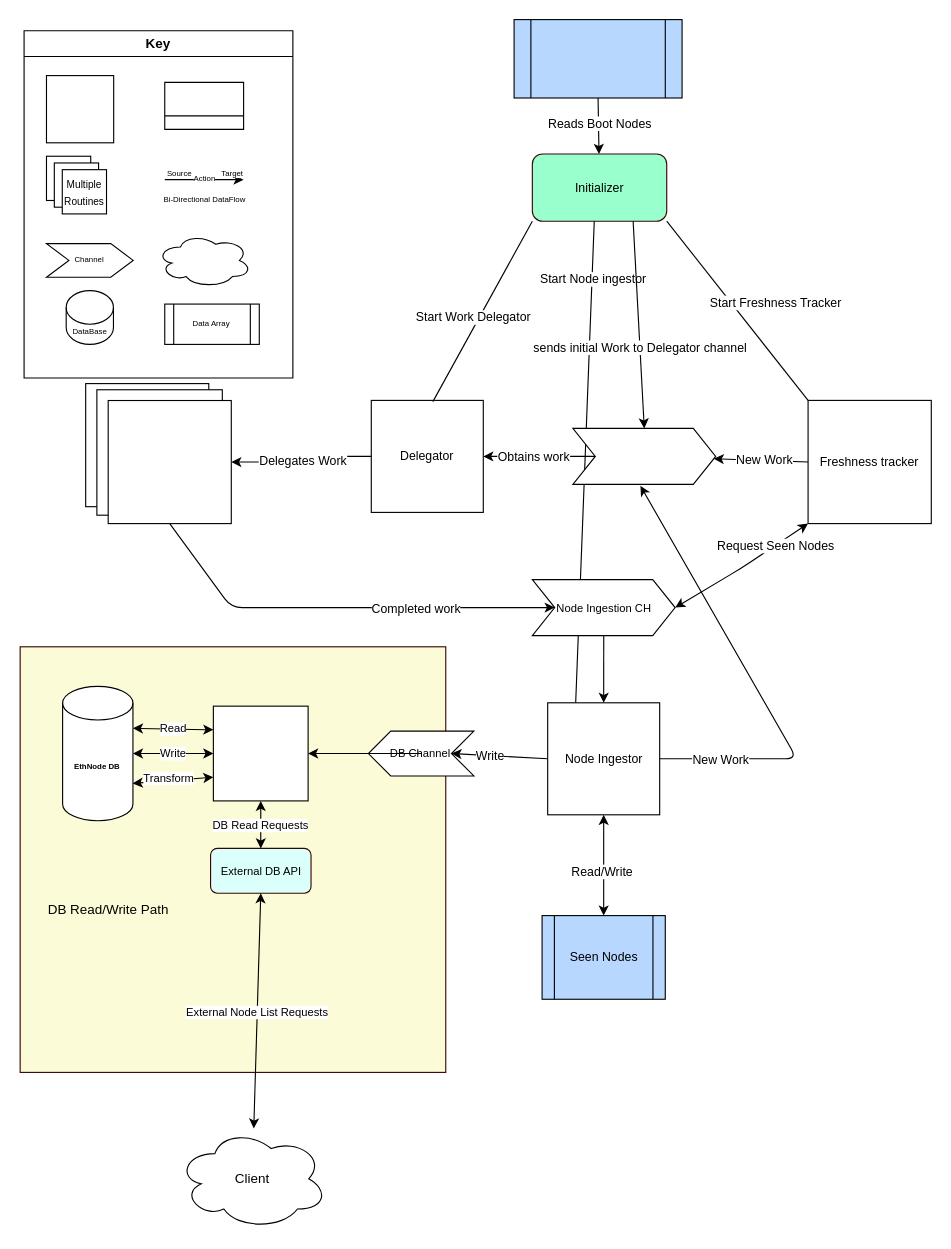
The diagram is 951 pixels wide and 1249 high, and some of its shapes have lost their labels. The centre of each missing label's shape, as x and y in pixels:
"Boot Nodes" belongs at point 597,58.
"EthNode DB R/W" belongs at point 260,753.
"External client/Server" belongs at point 203,259.
"Routine" belongs at point 79,108.
"Struct Definition" belongs at point 204,105.
"Work Delegation CH" belongs at point 644,455.
"Workers" belongs at point 169,461.
